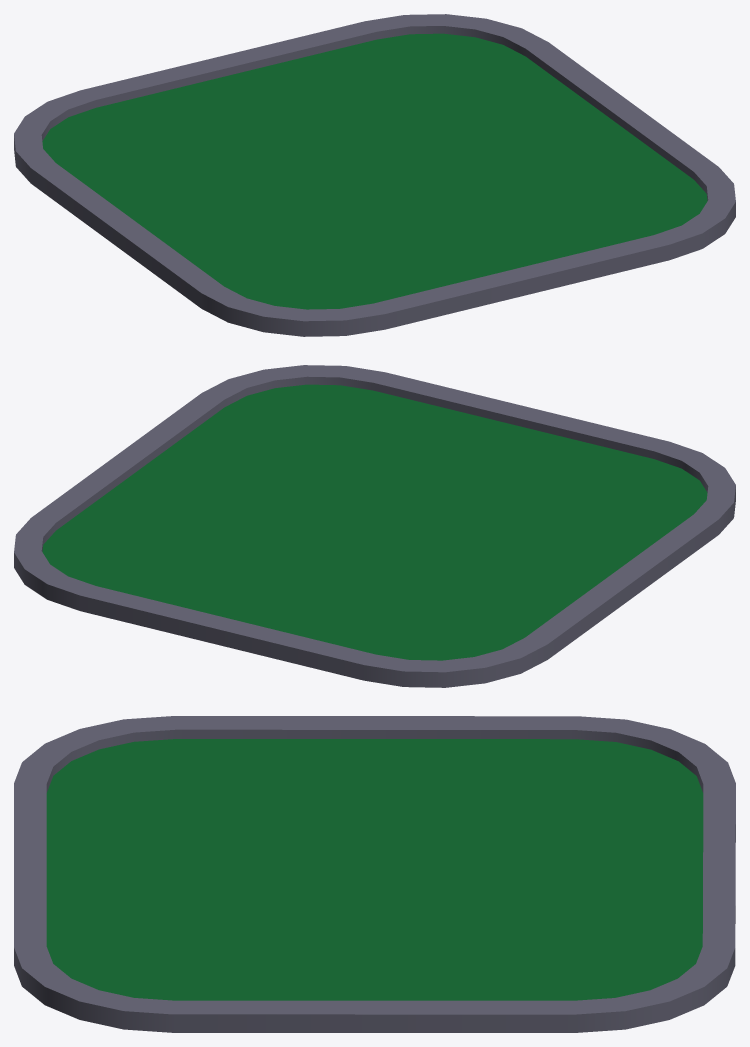
Rendered from border_lawn_square.fbx.
3 renders of one model, top to bottom at view 1: azimuth 30°, elevation 25°; view 2: azimuth 150°, elevation 25°; view 3: azimuth 270°, elevation 25°, orthographic. The views are drawn at different scales.
Parts seen in each view (by area): view 1: border_lawn_square; view 2: border_lawn_square; view 3: border_lawn_square.
Boxes of the visible parts, x1,y1,x2,y2 form: border_lawn_square: (14,14,735,336); border_lawn_square: (14,365,735,687); border_lawn_square: (14,716,735,1032).
Size of the model in its own units: 383 by 11.05 by 392.
